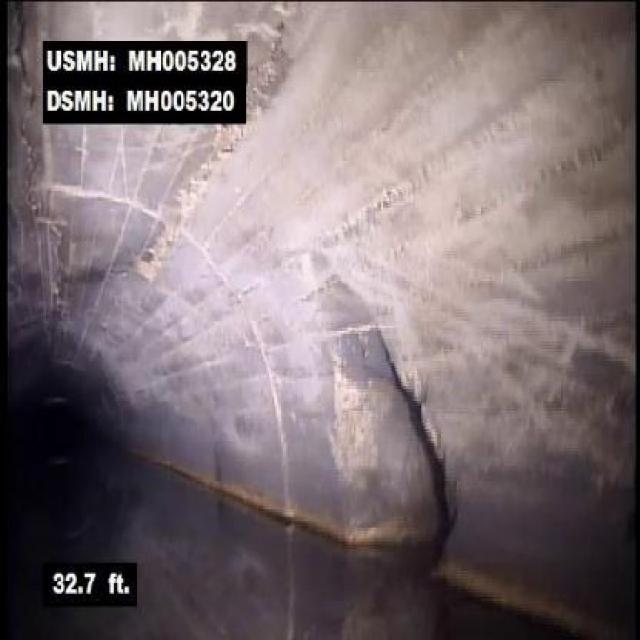Buckling: (5, 0, 43, 188)
Crack: (160, 129, 238, 245), (248, 0, 302, 120)
